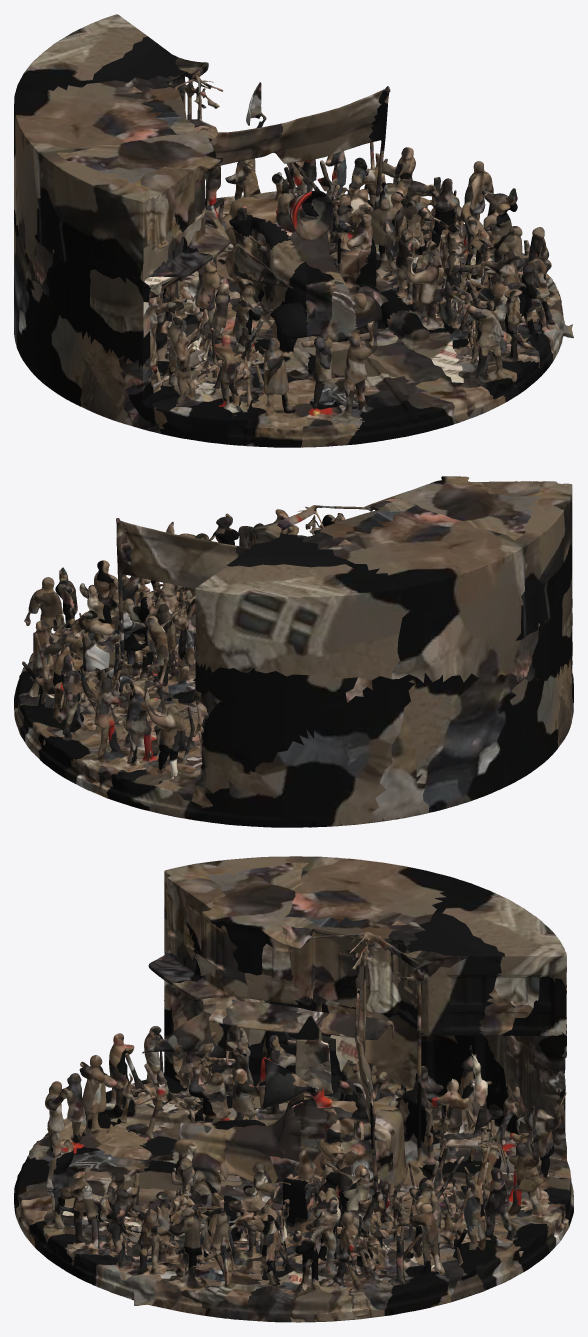
File: bac_ho_keu_goi_toan_quoc_khang_chien.glb
The picture shows the model from 3 angles, top to bottom: view 1: azimuth 30°, elevation 25°; view 2: azimuth 150°, elevation 25°; view 3: azimuth 270°, elevation 25°; orthographic projection.
Visible parts, largest first — view 1: Mesh_0; view 2: Mesh_0; view 3: Mesh_0.
Part boxes in pixels (x1,y1,x2,y2): Mesh_0: [14, 14, 573, 447]; Mesh_0: [14, 476, 573, 827]; Mesh_0: [14, 856, 573, 1322].
Size of the model in its own units: 189 by 91.71 by 190.
Materials: 1 (1 with a texture image).
